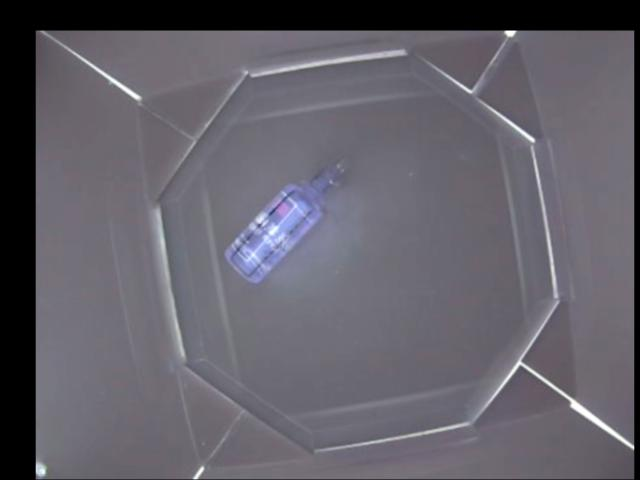Bottle: (220, 154, 349, 283)
